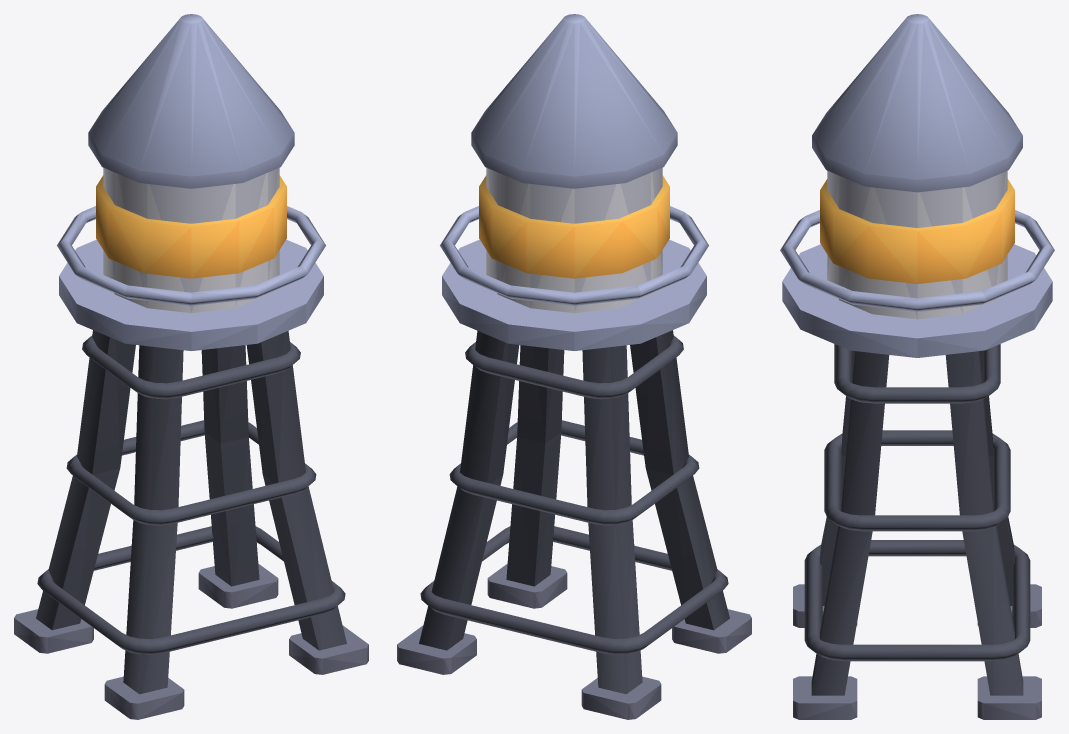
3 views of the same model, side by side, from view 1: azimuth 30°, elevation 25°; view 2: azimuth 150°, elevation 25°; view 3: azimuth 270°, elevation 25° (orthographic). The views are drawn at different scales.
Parts seen in each view (by area): view 1: water-tower; view 2: water-tower; view 3: water-tower.
Boxes of the visible parts, <box> form: water-tower: <box>14,14,368,719</box>; water-tower: <box>397,14,751,719</box>; water-tower: <box>780,14,1054,719</box>.
Bounding box in the file's own units: 7.16 × 18 × 6.99.
